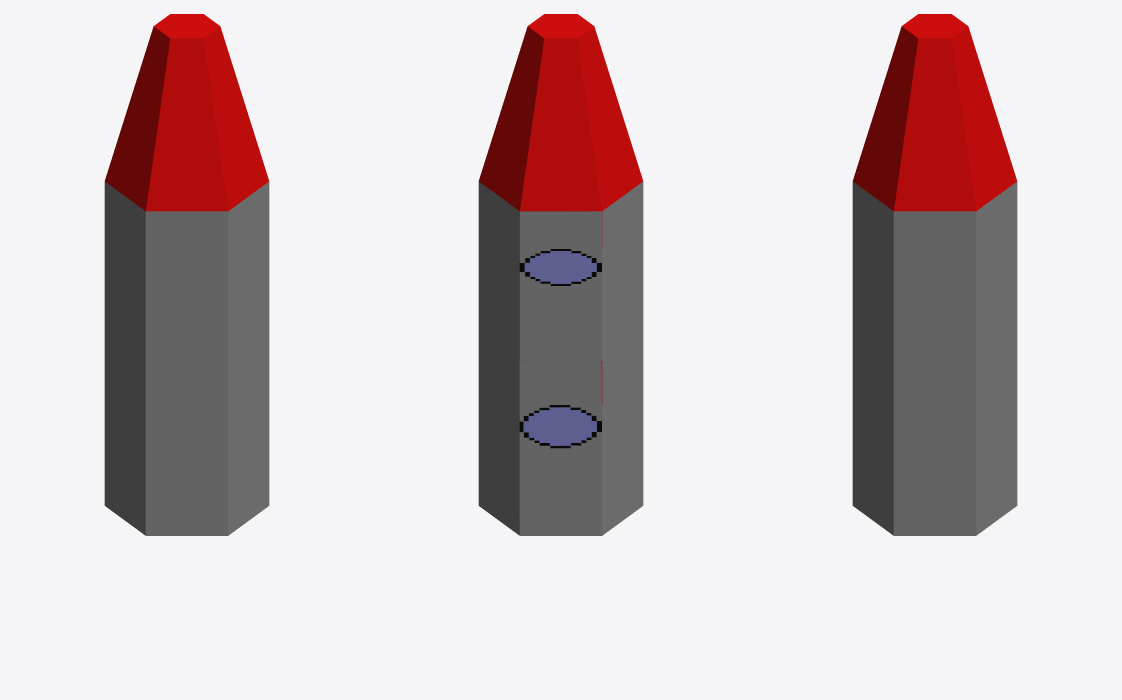
Rendered from RocketTexture.obj.
3 renders of one model, left to right at view 1: azimuth 30°, elevation 25°; view 2: azimuth 150°, elevation 25°; view 3: azimuth 270°, elevation 25°, orthographic.
Parts seen in each view (by area): view 1: Cylinder; view 2: Cylinder; view 3: Cylinder.
Boxes of the visible parts, left/top/right/bottom form: Cylinder: left=104, top=14, right=269, bottom=535; Cylinder: left=478, top=14, right=643, bottom=535; Cylinder: left=852, top=14, right=1017, bottom=535.
Bounding box in the file's own units: 3.63 × 7.99 × 4.2.
